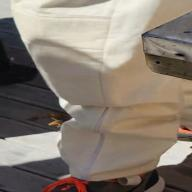Bee: (38, 112, 76, 132)
